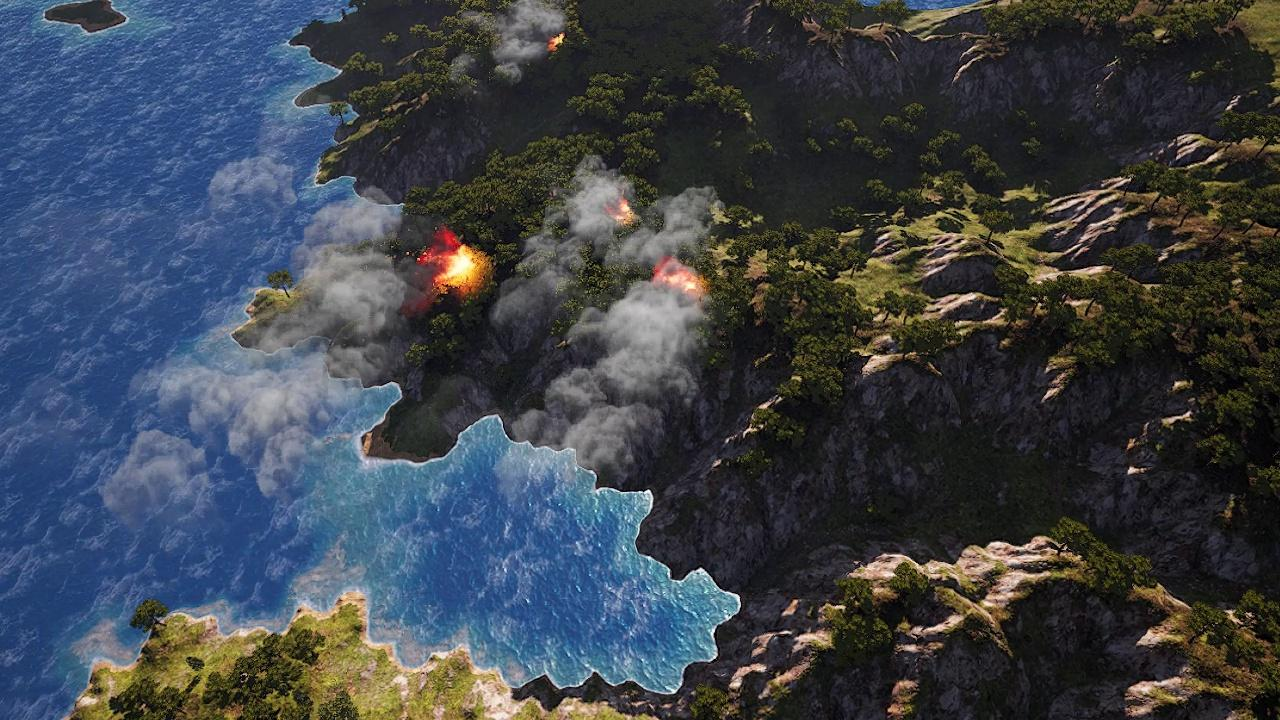fire: (429, 238, 483, 295), (654, 262, 708, 301), (613, 199, 638, 226), (550, 34, 567, 54)
smoke: (97, 105, 425, 542), (485, 159, 716, 494), (449, 0, 564, 79)
